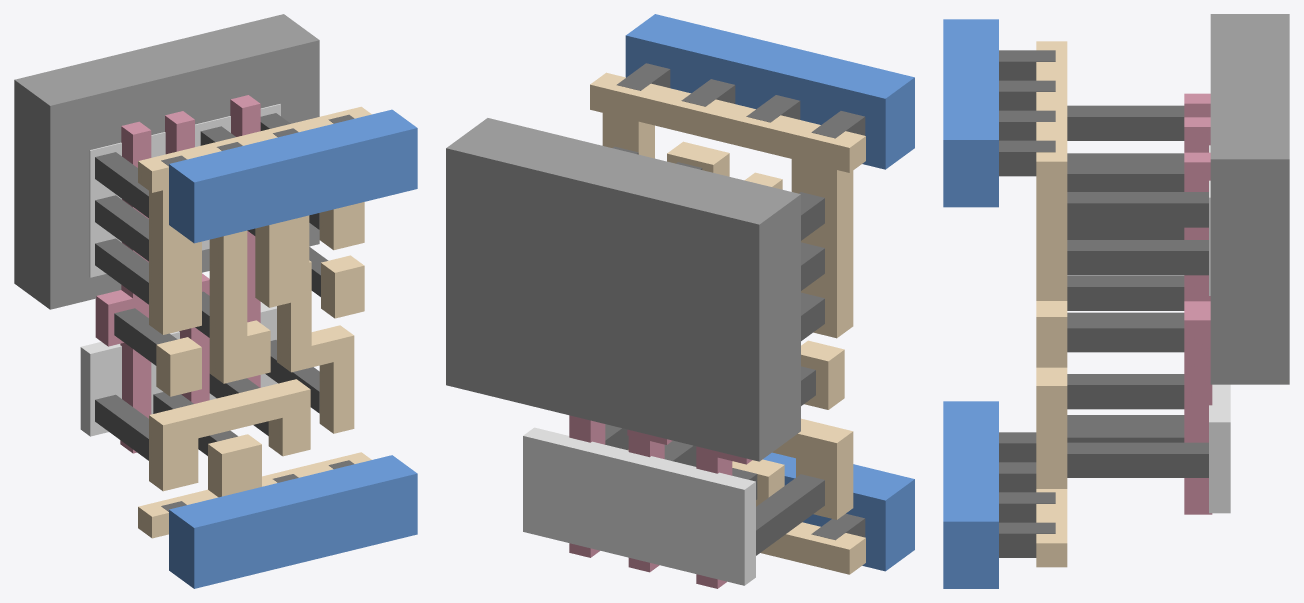
Rendered from sky130_fd_sc_hd__o21ai_1.gds.gltf.
The picture shows the model from 3 angles, left to right: view 1: azimuth 30°, elevation 25°; view 2: azimuth 150°, elevation 25°; view 3: azimuth 270°, elevation 25°; orthographic projection. The views are drawn at different scales.
Parts seen in each view (by area): view 1: sky130_fd_sc_hd__o21ai_1_li1, sky130_fd_sc_hd__o21ai_1_met1, sky130_fd_sc_hd__o21ai_1_nwell, sky130_fd_sc_hd__o21ai_1_licon, sky130_fd_sc_hd__o21ai_1_poly, sky130_fd_sc_hd__o21ai_1_diff, sky130_fd_sc_hd__o21ai_1_mcon; view 2: sky130_fd_sc_hd__o21ai_1_nwell, sky130_fd_sc_hd__o21ai_1_li1, sky130_fd_sc_hd__o21ai_1_diff, sky130_fd_sc_hd__o21ai_1_met1, sky130_fd_sc_hd__o21ai_1_licon, sky130_fd_sc_hd__o21ai_1_mcon, sky130_fd_sc_hd__o21ai_1_poly; view 3: sky130_fd_sc_hd__o21ai_1_licon, sky130_fd_sc_hd__o21ai_1_nwell, sky130_fd_sc_hd__o21ai_1_met1, sky130_fd_sc_hd__o21ai_1_li1, sky130_fd_sc_hd__o21ai_1_mcon, sky130_fd_sc_hd__o21ai_1_poly, sky130_fd_sc_hd__o21ai_1_diff.
Part boxes in pixels (x1,y1,x2,y2): sky130_fd_sc_hd__o21ai_1_li1: [138, 106, 371, 538]; sky130_fd_sc_hd__o21ai_1_met1: [169, 109, 417, 588]; sky130_fd_sc_hd__o21ai_1_nwell: [14, 14, 319, 309]; sky130_fd_sc_hd__o21ai_1_licon: [95, 113, 328, 460]; sky130_fd_sc_hd__o21ai_1_poly: [95, 95, 260, 453]; sky130_fd_sc_hd__o21ai_1_diff: [80, 104, 280, 436]; sky130_fd_sc_hd__o21ai_1_mcon: [161, 114, 354, 511]; sky130_fd_sc_hd__o21ai_1_nwell: [446, 118, 800, 461]; sky130_fd_sc_hd__o21ai_1_li1: [590, 72, 865, 574]; sky130_fd_sc_hd__o21ai_1_diff: [523, 427, 755, 585]; sky130_fd_sc_hd__o21ai_1_met1: [625, 14, 914, 571]; sky130_fd_sc_hd__o21ai_1_licon: [605, 146, 824, 555]; sky130_fd_sc_hd__o21ai_1_mcon: [617, 63, 865, 540]; sky130_fd_sc_hd__o21ai_1_poly: [569, 415, 752, 588]; sky130_fd_sc_hd__o21ai_1_licon: [1067, 105, 1208, 477]; sky130_fd_sc_hd__o21ai_1_nwell: [1210, 14, 1289, 384]; sky130_fd_sc_hd__o21ai_1_met1: [943, 19, 998, 588]; sky130_fd_sc_hd__o21ai_1_li1: [1036, 41, 1067, 567]; sky130_fd_sc_hd__o21ai_1_mcon: [999, 50, 1055, 557]; sky130_fd_sc_hd__o21ai_1_poly: [1184, 93, 1212, 514]; sky130_fd_sc_hd__o21ai_1_diff: [1209, 145, 1230, 513].
Bounding box in the file's own units: 2.22 × 3.2 × 2.24.
